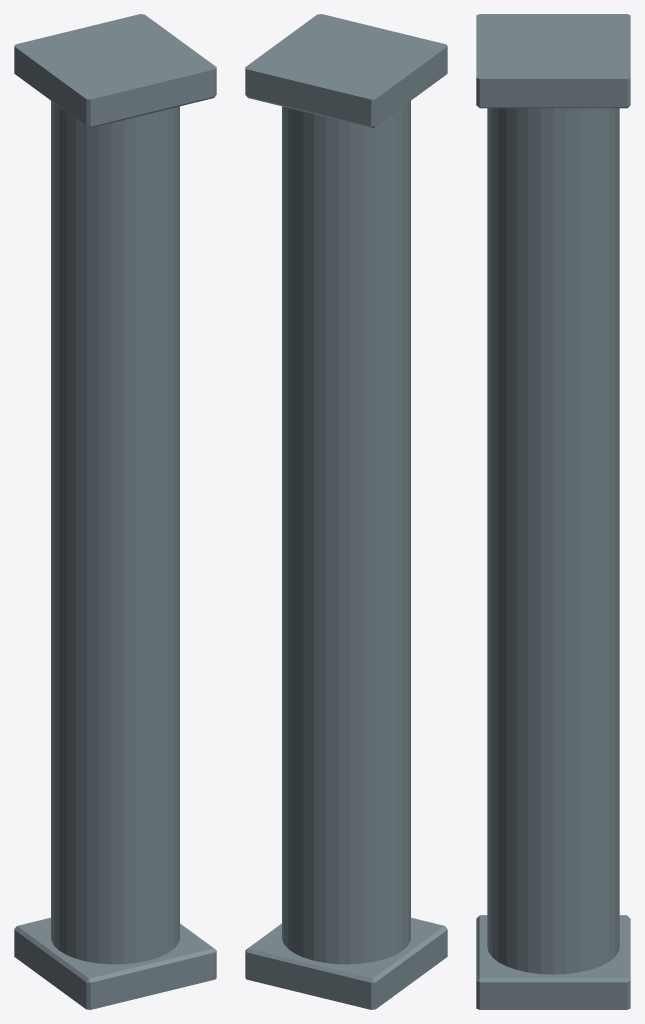
The model's file is BigPillar.dae.
3 renders of one model, left to right at view 1: azimuth 30°, elevation 25°; view 2: azimuth 150°, elevation 25°; view 3: azimuth 270°, elevation 25°, orthographic. The views are drawn at different scales.
Parts seen in each view (by area): view 1: BigPillar; view 2: BigPillar; view 3: BigPillar.
Boxes of the visible parts, left/top/right/bottom form: BigPillar: left=14, top=14, right=216, bottom=1009; BigPillar: left=245, top=14, right=447, bottom=1009; BigPillar: left=476, top=14, right=630, bottom=1009.
Bounding box in the file's own units: 1.5 × 1.5 × 10.
